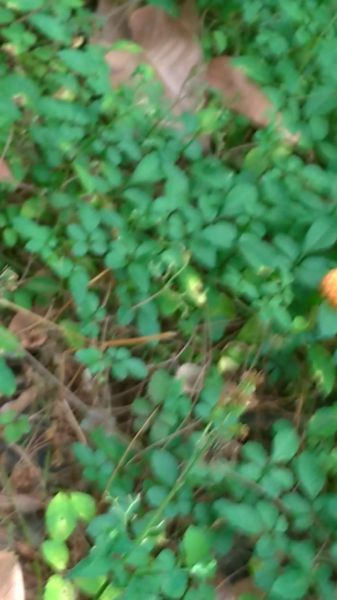eggs: (317, 265, 337, 306)
